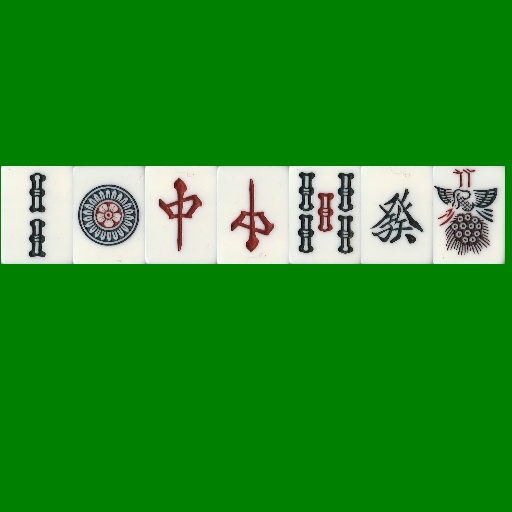1p: (73, 166, 145, 264)
1s: (433, 166, 505, 264)
2s: (1, 166, 73, 264)
5s: (289, 166, 361, 264)
hatsu: (361, 166, 433, 264)
tyun: (145, 166, 217, 264), (217, 166, 289, 264)
